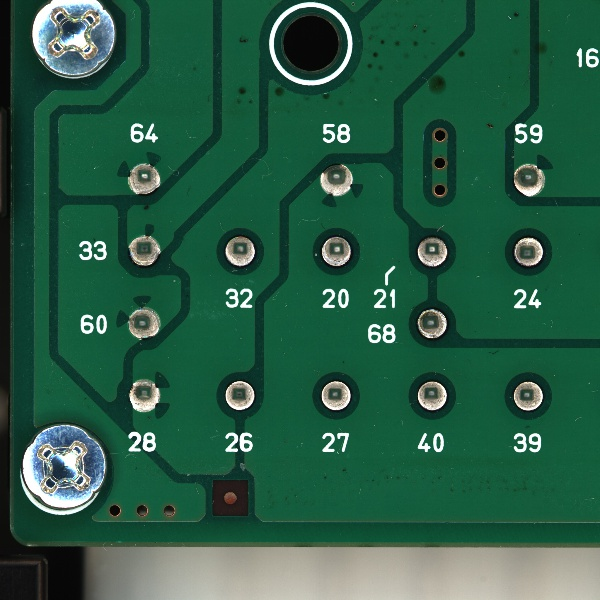Circle: (123, 228, 166, 269), (508, 160, 549, 202), (124, 375, 166, 416), (218, 373, 260, 414), (221, 231, 260, 273), (507, 232, 546, 273), (411, 304, 452, 343), (314, 160, 353, 200), (123, 302, 162, 341), (316, 376, 355, 415), (413, 233, 453, 270), (125, 161, 166, 197), (318, 230, 354, 271), (413, 377, 451, 415), (508, 378, 546, 416)
